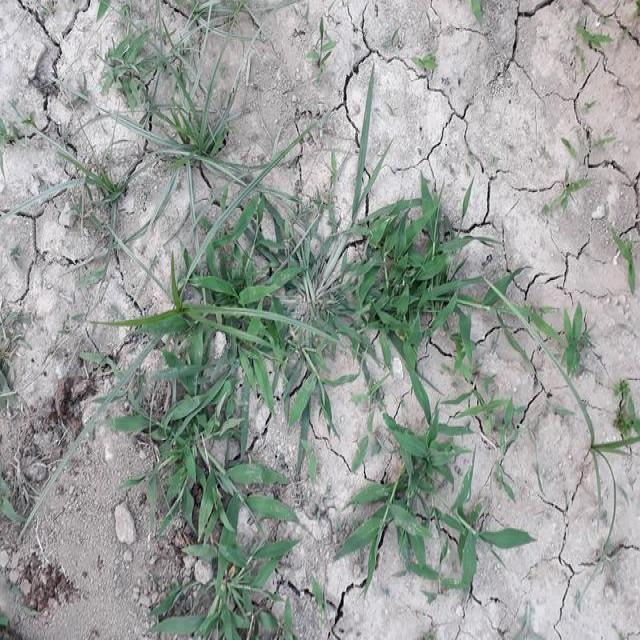weed: (137, 184, 310, 640), (347, 394, 518, 578), (339, 198, 487, 378)
